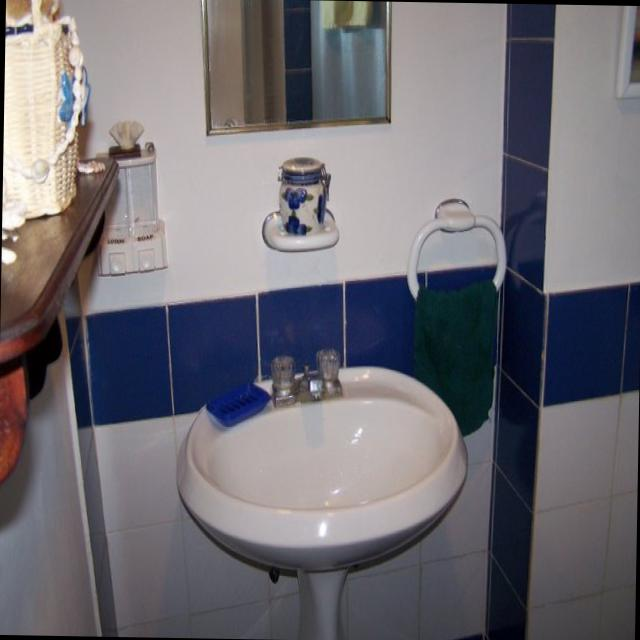Blue tile: (543, 283, 628, 404)
Liquide Soap: (93, 138, 168, 279)
basket crop: (2, 16, 81, 232)
blue tile: (256, 280, 344, 382)
faucet handle: (300, 368, 322, 395)
hanger: (398, 203, 508, 323)
jar crop: (276, 154, 332, 236)
mirror crop: (199, 0, 394, 138)
shelf crop: (0, 156, 118, 482)
shower door handle: (318, 28, 384, 115)
sink basin: (190, 362, 470, 540)
soap dispenser: (206, 380, 269, 432)
towel basket: (410, 284, 497, 435)
water handle: (265, 354, 301, 405), (314, 346, 346, 399)
white tile: (92, 415, 182, 534), (534, 392, 621, 513)
